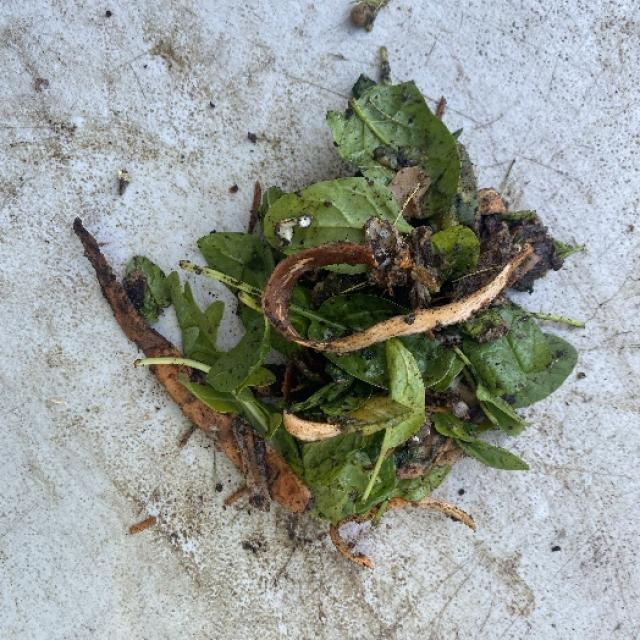organic: (54, 136, 596, 538)
